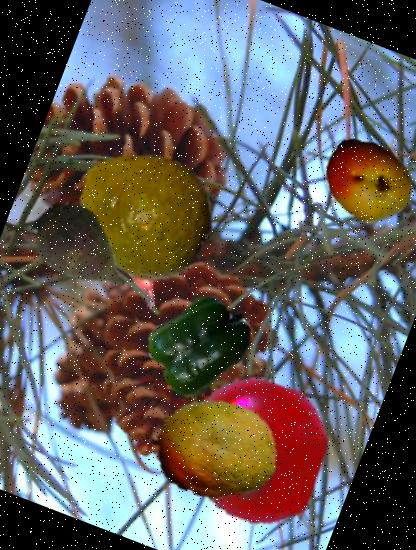Banana: (108, 250, 176, 318)
Beetroot: (6, 178, 156, 327)
Guava: (54, 124, 231, 302)
Papaya: (133, 368, 297, 532), (308, 121, 416, 239)
Pepper: (136, 280, 266, 410)
Redcurrant: (162, 356, 349, 544)
